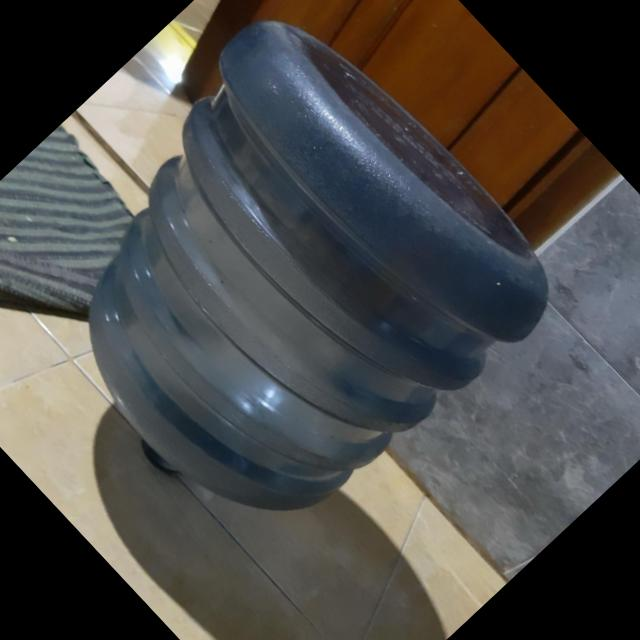Galon: (0, 0, 582, 582)
